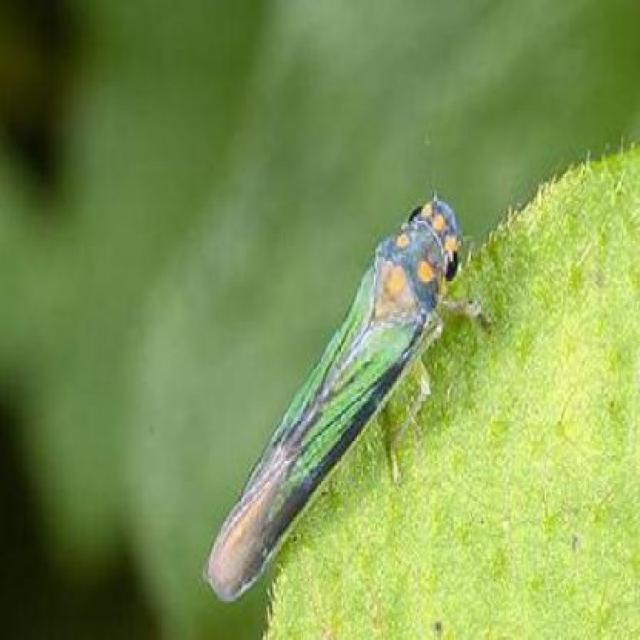green-leafhopper: (199, 190, 498, 596)
